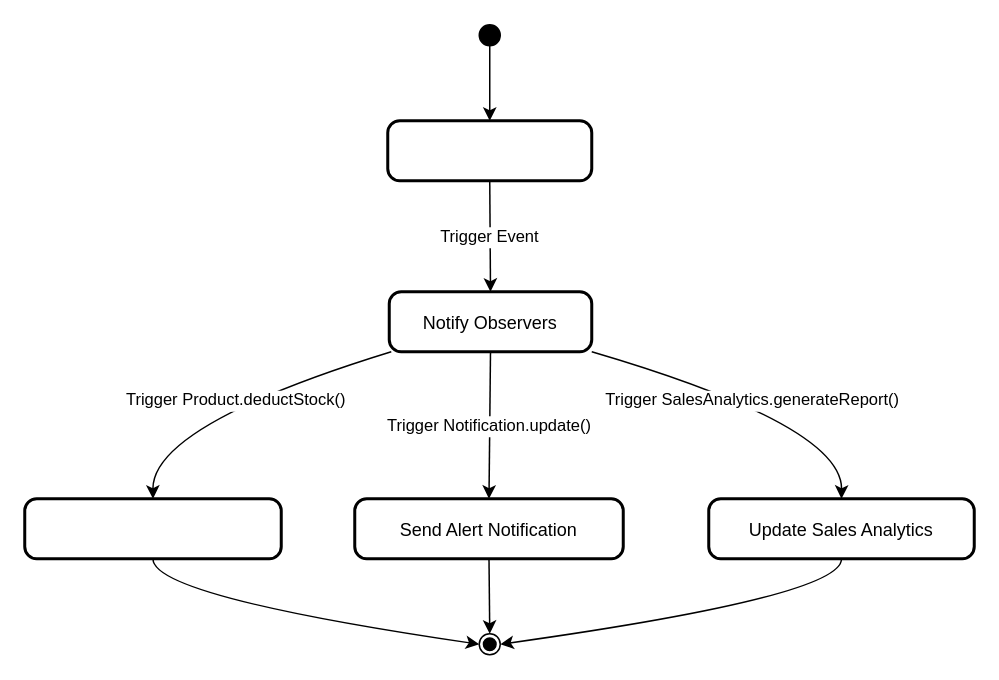
This 999x680 diagram has some shape labels left out. The box of each missing label's shape, as (x1, y1, x2, y2) in pixels:
Order Confirmed: (386, 118, 592, 182)
Update Product Stock: (22, 496, 282, 560)
